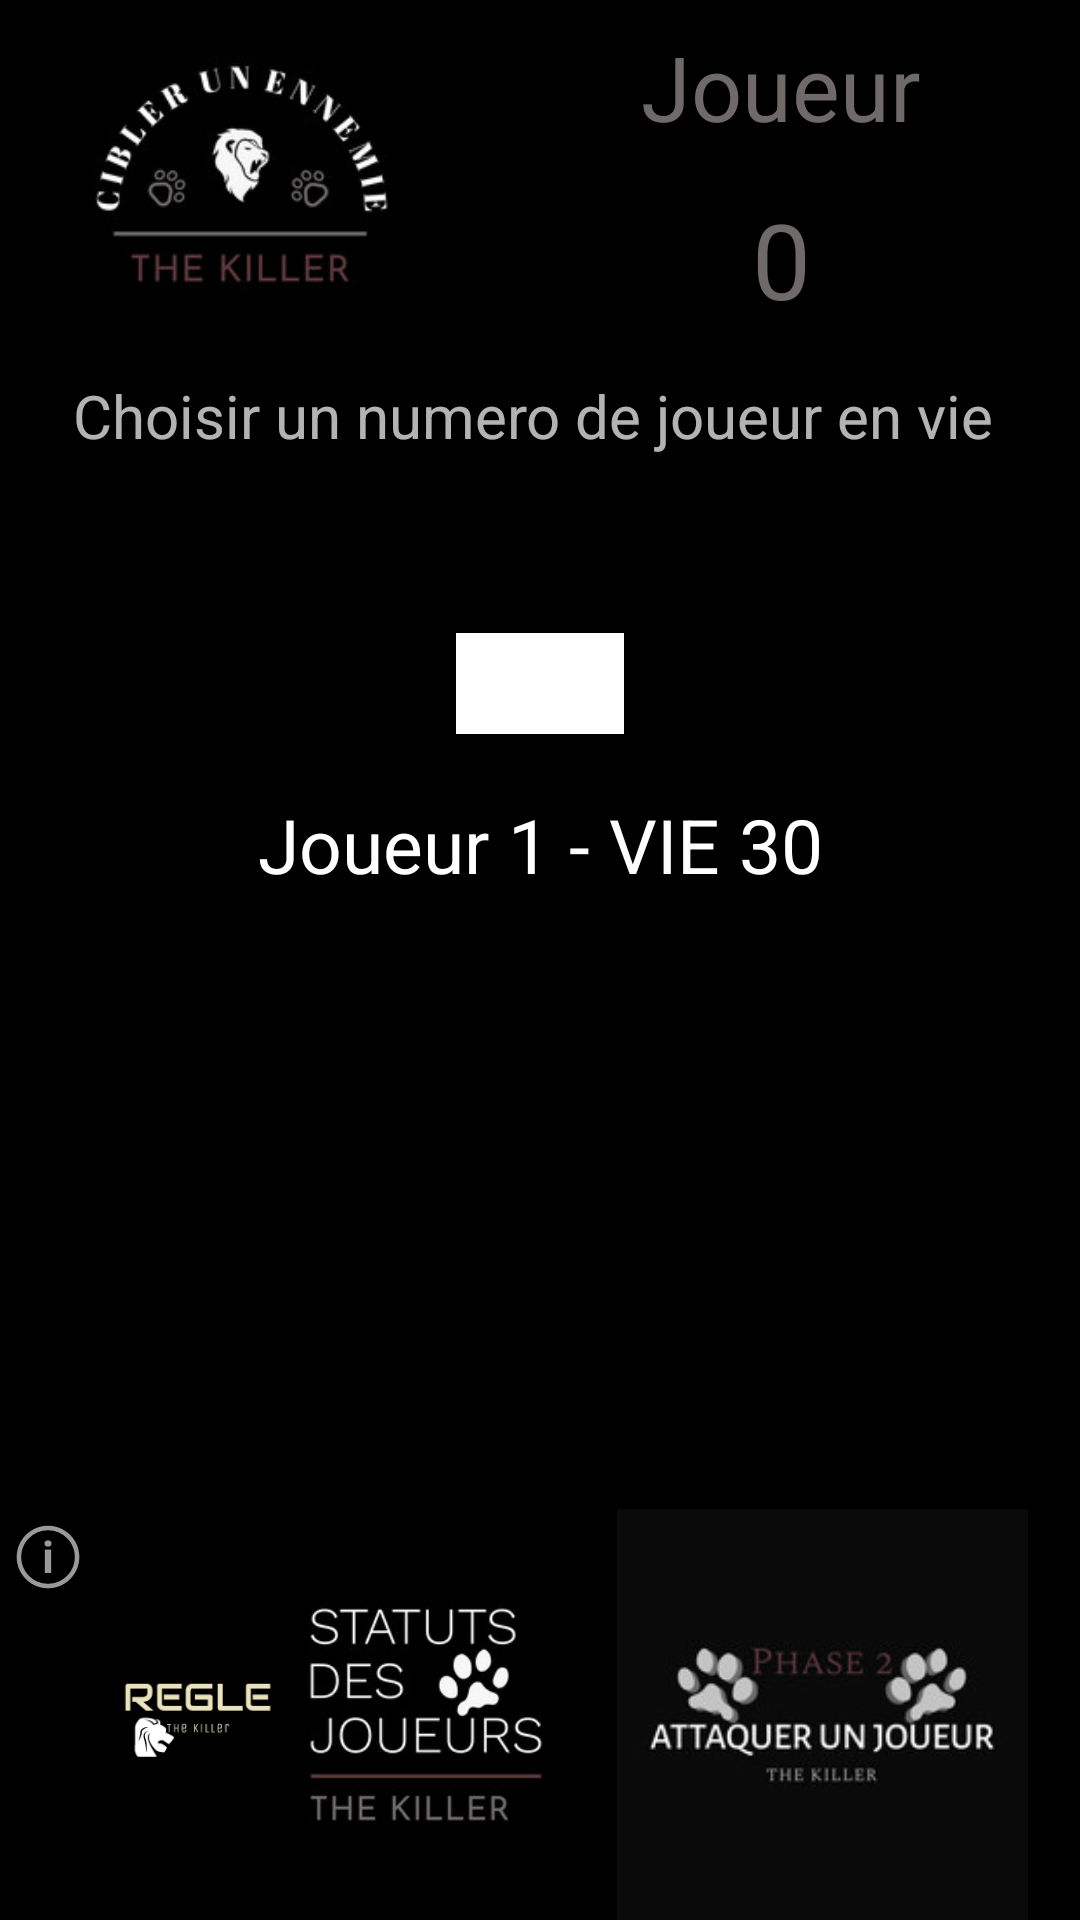

Named icons in this screenshot (1080w x 1920h) and their bounding boxes, [x1=x1, y1=y1, x2=x2, y2=y2]:
info details: [x1=16, y1=1525, x2=80, y2=1589]
